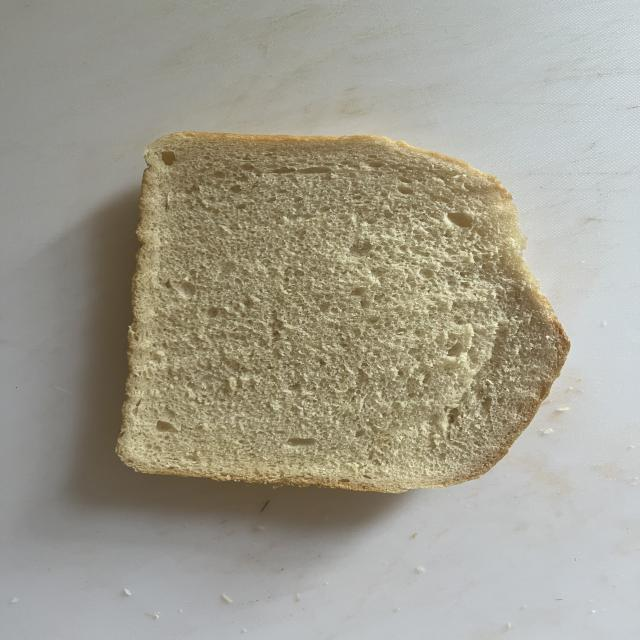sliced_bread: (117, 132, 569, 492)
